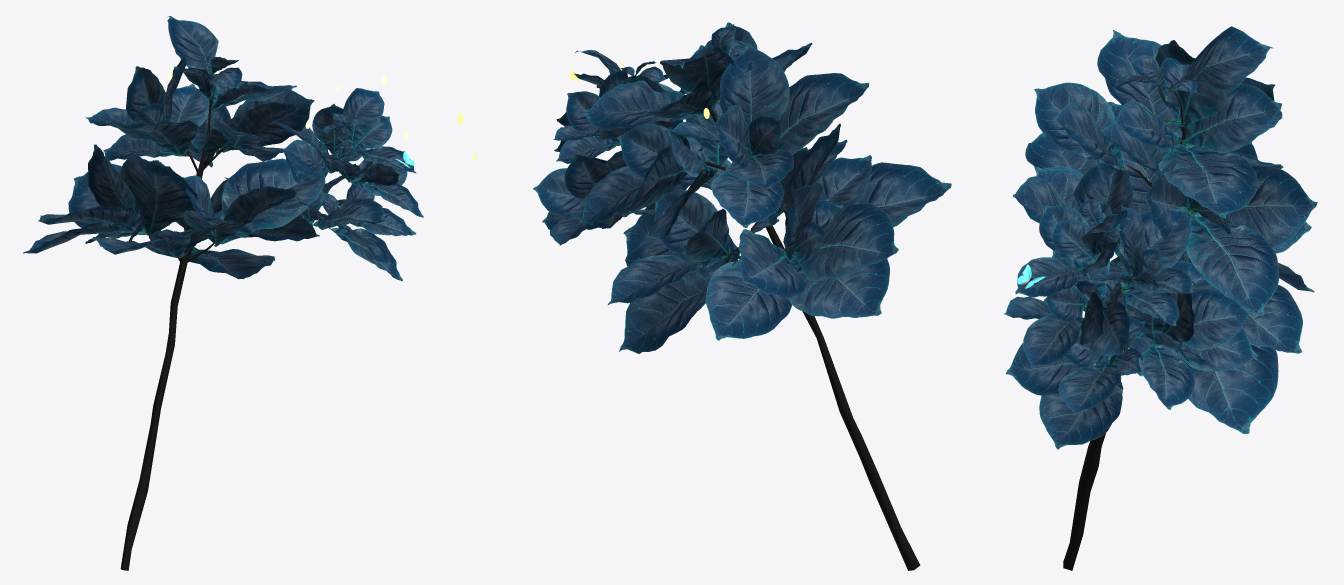
File: butterfly-cleaned.glb
3 views of the same model, side by side, from view 1: azimuth 30°, elevation 25°; view 2: azimuth 150°, elevation 25°; view 3: azimuth 270°, elevation 25° (orthographic). The views are drawn at different scales.
Parts seen in each view (by area): view 1: tree.003, tree; view 2: tree.003, tree; view 3: tree.003, tree.
Boxes of the visible parts, box(x1,y1,x2,y2) form: tree.003: box(23, 16, 325, 570); tree: box(224, 88, 423, 281); tree.003: box(577, 22, 951, 570); tree: box(533, 50, 702, 245); tree.003: box(1013, 26, 1317, 570); tree: box(1004, 199, 1257, 449).
Bounding box in the file's own units: 49.16 × 60.41 × 29.93.
4 materials, 2 textured.
